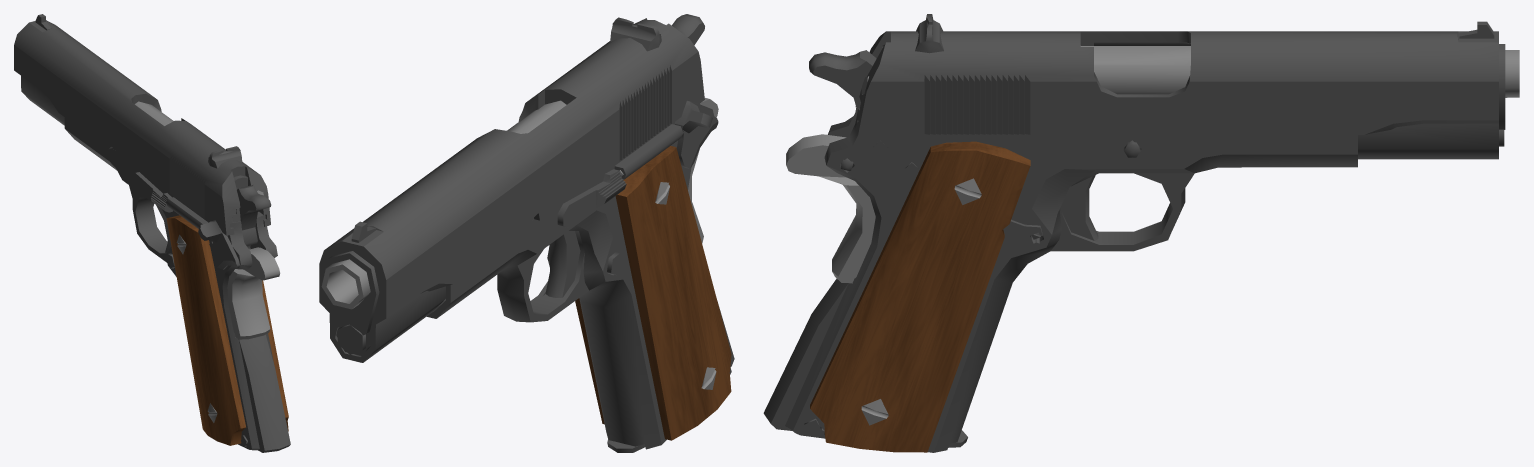
The picture shows the model from 3 angles, left to right: view 1: azimuth 30°, elevation 25°; view 2: azimuth 150°, elevation 25°; view 3: azimuth 270°, elevation 25°; orthographic projection. The views are drawn at different scales.
Visible parts, largest first — view 1: slide, grip_left, frame, mainspring_housing, grip_safety, hammer, safety_switch, slide_lock, grip_right, plunger_tube, rear_sight, barrel; view 2: slide, grip_left, frame, barrel, barrel_bushing, slide_lock, trigger, safety_switch, plunger_tube, rear_sight, recoil_spring_plug, hammer (+2 smaller); view 3: slide, grip_right, frame, barrel, grip_safety, mainspring_housing, hammer, trigger, rear_sight.
Part boxes in pixels (x1,y1,x2,y2): slide: (14, 20, 270, 235); grip_left: (166, 215, 245, 445); frame: (64, 117, 277, 450); mainspring_housing: (238, 334, 290, 452); grip_safety: (227, 247, 280, 339); hammer: (237, 185, 271, 249); safety_switch: (198, 220, 239, 269); slide_lock: (131, 172, 172, 212); grip_right: (262, 280, 288, 431); plunger_tube: (166, 197, 208, 228); rear_sight: (208, 146, 242, 168); barrel: (135, 101, 173, 125); slide: (319, 18, 704, 362); grip_left: (615, 145, 731, 440); frame: (427, 103, 731, 449); barrel: (321, 100, 566, 309); barrel_bushing: (325, 251, 379, 335); slide_lock: (557, 169, 626, 227); trigger: (545, 231, 580, 297); safety_switch: (674, 101, 718, 168); plunger_tube: (614, 124, 683, 179); rear_sight: (610, 17, 661, 51); recoil_spring_plug: (336, 324, 370, 355); hammer: (672, 14, 704, 45); slide: (855, 31, 1498, 159); grip_right: (810, 141, 1030, 452); frame: (785, 108, 1357, 452); barrel: (1080, 46, 1519, 97); grip_safety: (786, 134, 875, 283); mainspring_housing: (763, 278, 849, 435); hammer: (809, 50, 876, 111); trigger: (1060, 175, 1098, 240); rear_sight: (915, 14, 943, 53).
Size of the model in its own units: 3.61 by 13.85 by 22.66.
Materials: 3 (1 with a texture image).
